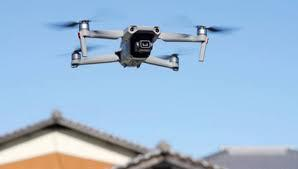drone: (54, 19, 225, 71)
